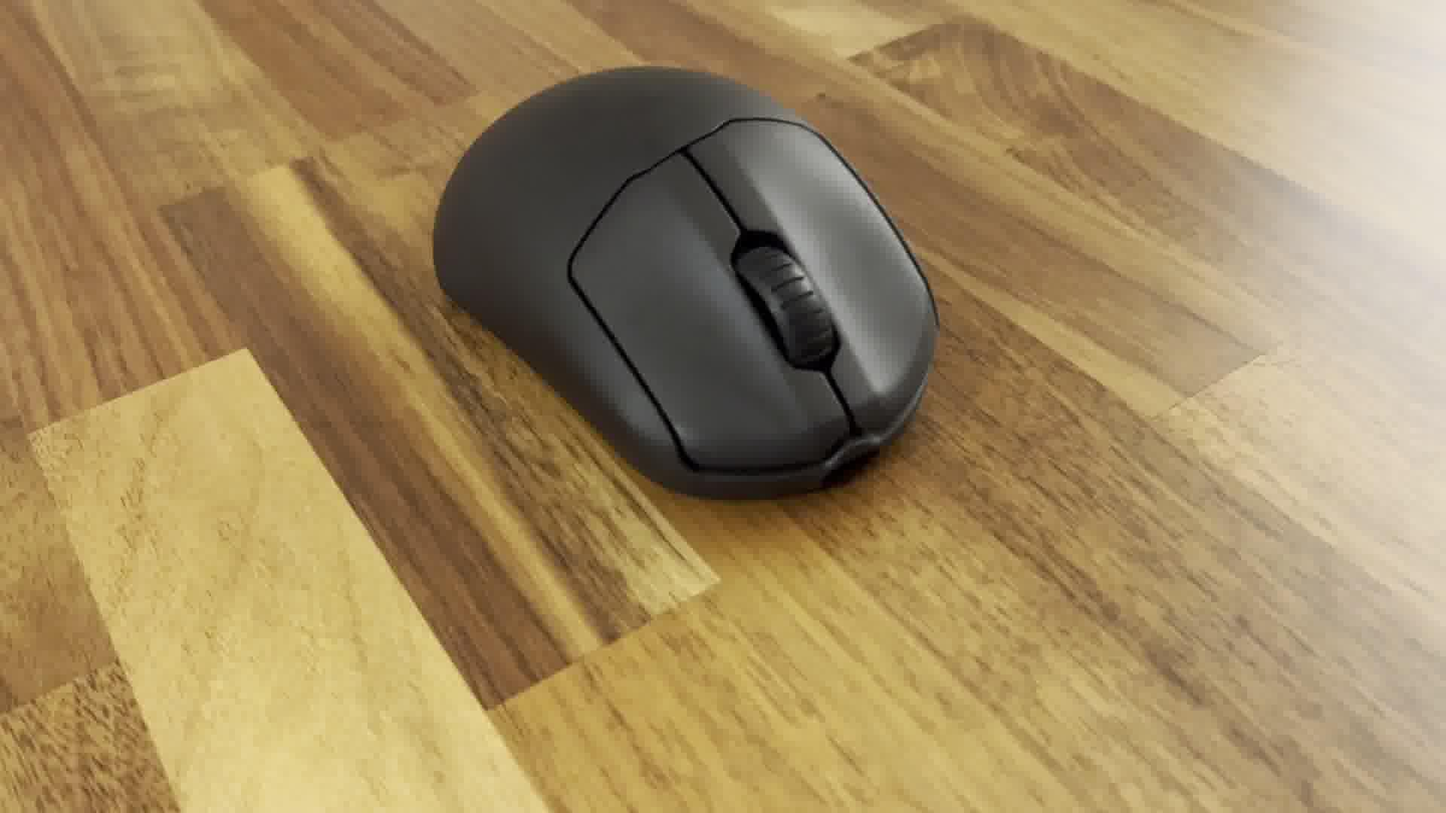steel-series: (427, 57, 947, 507)
